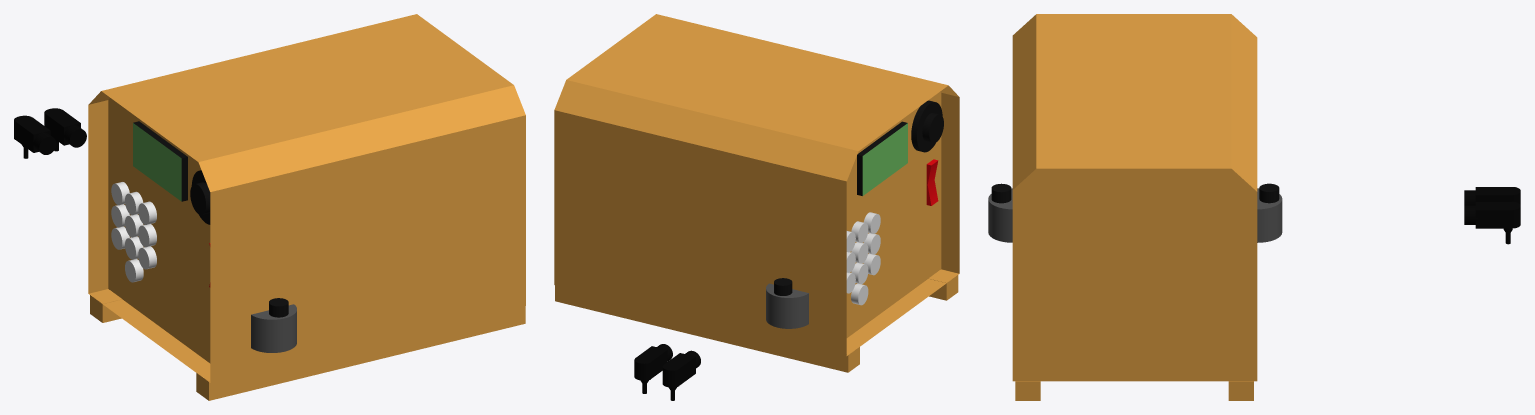
The model's file is SVIRKA!!!!.fbx.
The picture shows the model from 3 angles, left to right: view 1: azimuth 30°, elevation 25°; view 2: azimuth 150°, elevation 25°; view 3: azimuth 270°, elevation 25°; orthographic projection. The views are drawn at different scales.
Visible parts, largest first — view 1: Куб, Куб.005, Куб.001; view 2: Куб, Куб.005, Куб.001; view 3: Куб, Куб.001, Куб.005.
Boxes of the visible parts, bbox=[...] form: Куб: bbox=[88, 14, 525, 400]; Куб.005: bbox=[14, 115, 56, 158]; Куб.001: bbox=[44, 108, 86, 151]; Куб: bbox=[554, 14, 959, 372]; Куб.005: bbox=[662, 350, 700, 400]; Куб.001: bbox=[634, 344, 672, 393]; Куб: bbox=[988, 14, 1282, 400]; Куб.001: bbox=[1464, 201, 1520, 244]; Куб.005: bbox=[1464, 187, 1520, 205].
Size of the model in its own units: 301 by 210 by 436.
